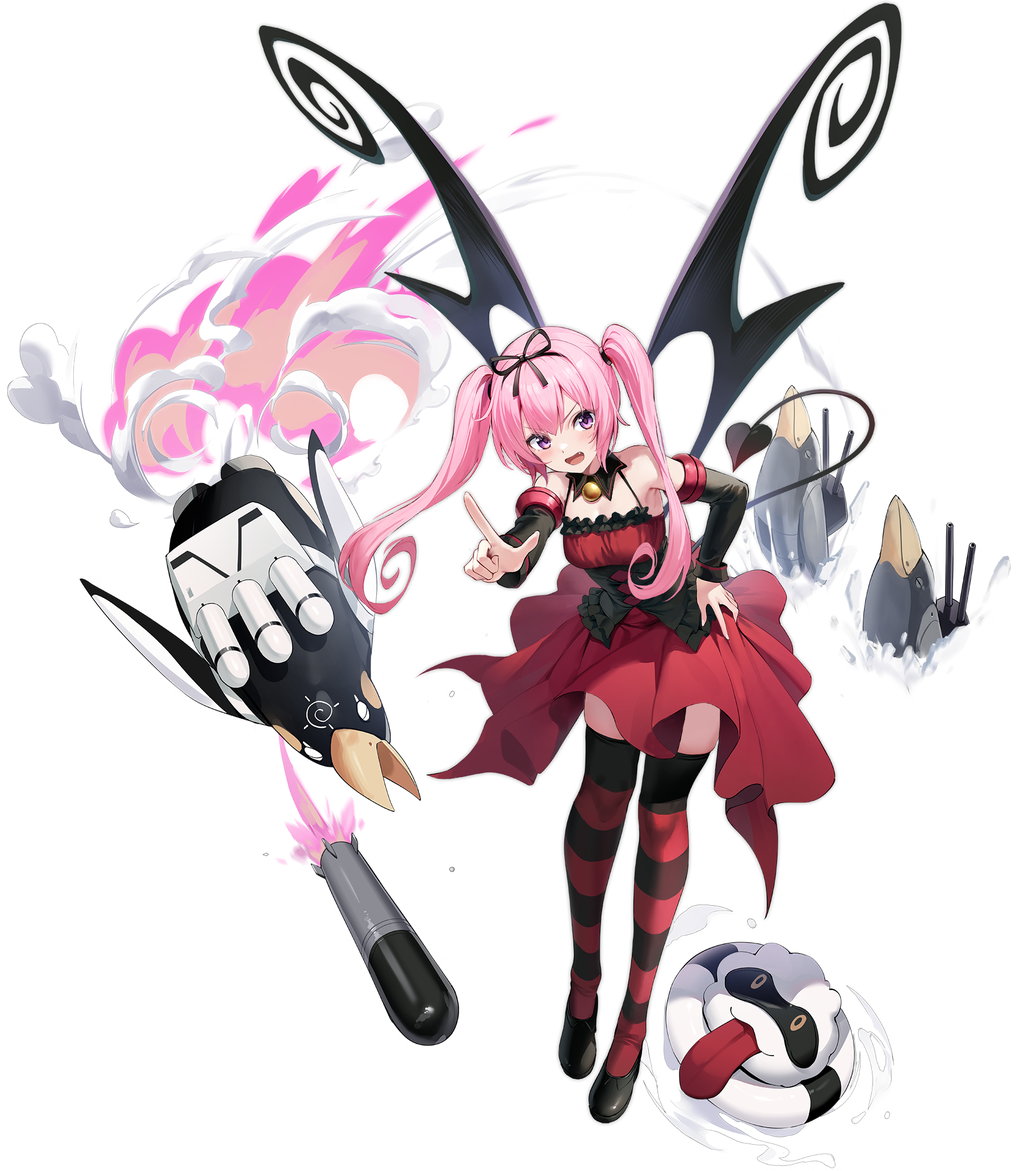person: (458, 292, 909, 1157)
